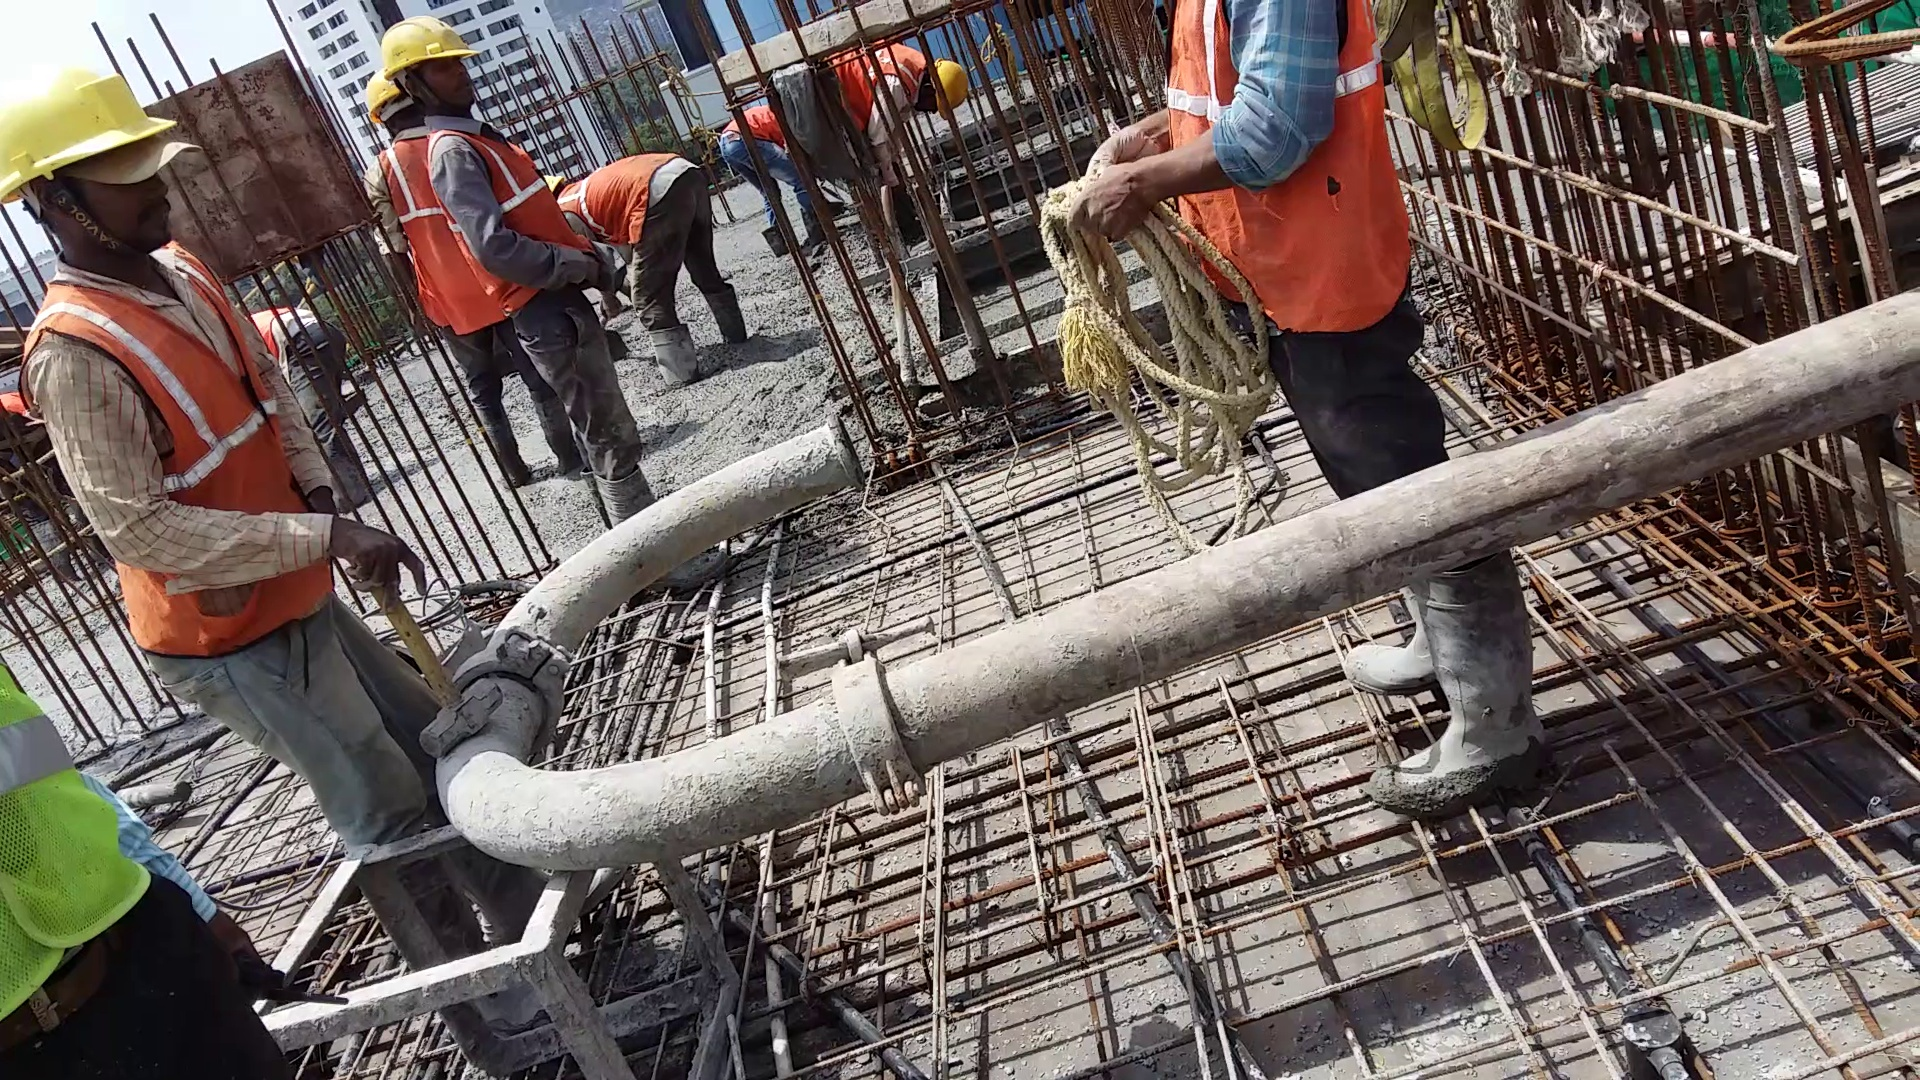SAFE: (3, 58, 314, 654), (378, 18, 588, 314)
